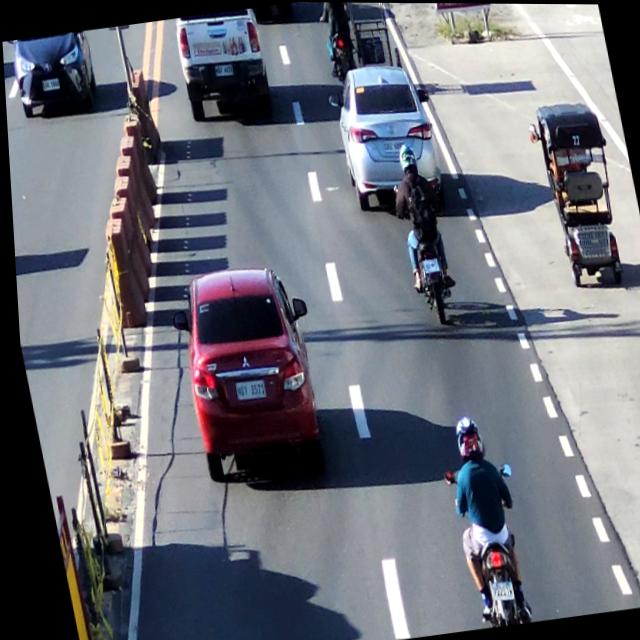Car: (164, 258, 333, 490), (324, 55, 447, 216), (168, 6, 280, 129)
E-bike: (527, 91, 629, 294)
License-Plate: (224, 371, 266, 406), (481, 575, 510, 599), (380, 137, 407, 156), (415, 252, 439, 273), (211, 60, 236, 79)
Motorcycle: (427, 413, 539, 629), (381, 138, 464, 337)
Tricycle: (317, 2, 406, 82)
